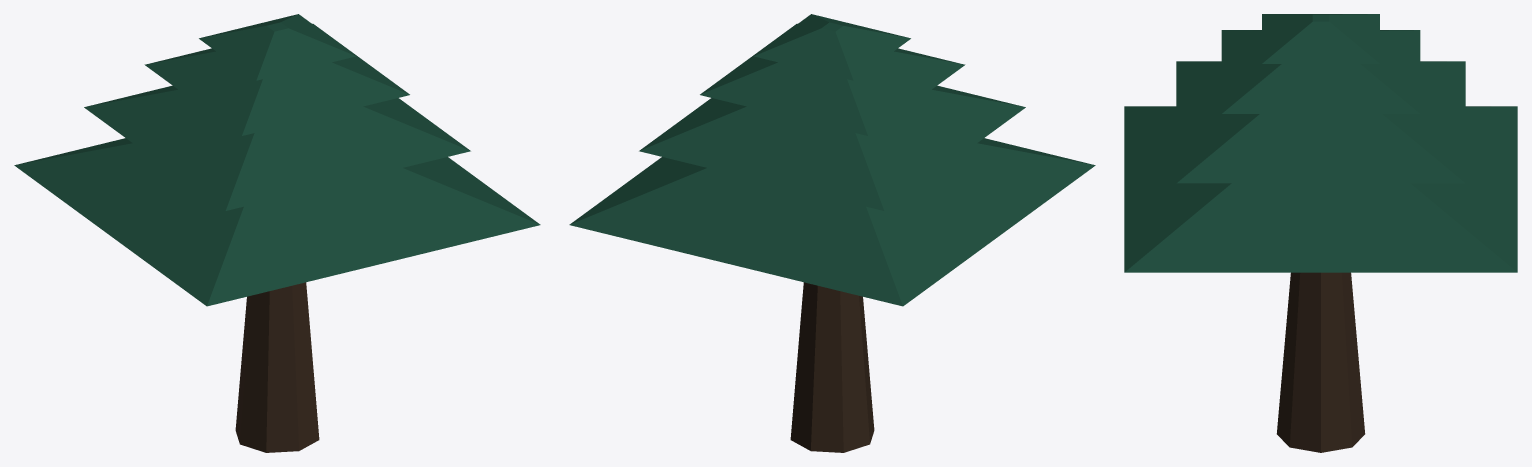
Rendered from Tree01.fbx.
3 views of the same model, side by side, from view 1: azimuth 30°, elevation 25°; view 2: azimuth 150°, elevation 25°; view 3: azimuth 270°, elevation 25° (orthographic).
Visible parts, largest first — view 1: pCube5; view 2: pCube5; view 3: pCube5.
Boxes of the visible parts, x1,y1,x2,y2 form: pCube5: (14, 14, 540, 452); pCube5: (569, 14, 1095, 452); pCube5: (1124, 14, 1517, 452).
Bounding box in the file's own units: 889 × 1038 × 889.
